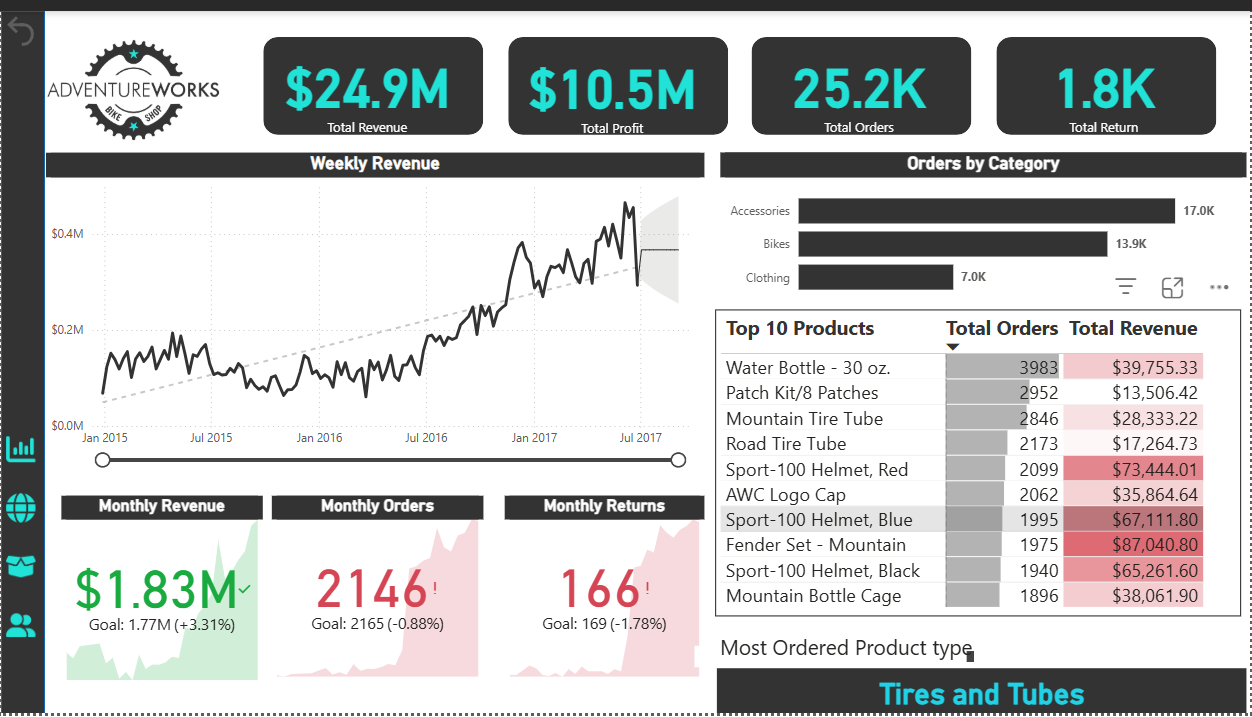

What the dashboard file says about the page in this screenshot:
{"tool":"powerbi","page":{"name":"Executive Summary","canvas":[1280,720],"ordinal":0},"visuals":[{"type":"image","title":"AW Logo","box":[22.9,0,225.6,162.1],"z":0},{"type":"shape","box":[267.9,26.4,225.6,100.5],"z":0,"group":"g1"},{"type":"image","box":[0,600.4,40.2,60.2],"z":0,"group":"g2"},{"type":"shape","title":"Left Nav Background","box":[0,0,45,720.9],"z":1000},{"type":"shape","box":[1018.7,26.4,225.6,100.5],"z":1000,"group":"g1"},{"type":"image","box":[0,540.2,40.2,60.2],"z":1000,"group":"g2"},{"type":"group","id":"g1","title":"KPI Background","box":[267.9,26.4,976.4,100.5],"z":2000},{"type":"shape","box":[768.4,26.4,225.6,100.5],"z":2000,"group":"g1"},{"type":"image","box":[0,419.7,40.2,60.2],"z":2000,"group":"g2"},{"type":"card","fields":{"Values":["AW_Sales.Total Revenue"]},"box":[232.6,0,283.8,162.1],"z":3000},{"type":"shape","box":[518.2,26.4,225.6,100.5],"z":3000,"group":"g1"},{"type":"image","box":[0,479.9,40.2,60.2],"z":3000,"group":"g2"},{"type":"card","fields":{"Values":["AW_Sales.Total Profit"]},"box":[484.7,1.8,283.8,160.4],"z":4000},{"type":"card","fields":{"Values":["AW_Sales.Total Orders"]},"box":[736.7,0,283.8,162.1],"z":5000},{"type":"card","fields":{"Values":["AW_Returns.Total Return"]},"box":[988.8,0,283.8,162.1],"z":6000},{"type":"lineChart","title":"Weekly Revenue","fields":{"Category":["AW_Calendar_Lookup.Start of Week"],"Y":["AW_Sales.Total Revenue"]},"box":[45.8,144.5,675,326.1],"z":7000},{"type":"kpi","title":"Monthly Revenue ","fields":{"Goal":["AW_Sales.Prev Month Revenue"],"Indicator":["AW_Sales.Total Revenue"],"TrendLine":["AW_Calendar_Lookup.Start of Month"]},"box":[61.7,497,206.2,193.9],"z":8000},{"type":"kpi","title":"Monthly Orders","fields":{"Goal":["AW_Sales.Prev Month Orders"],"Indicator":["AW_Sales.Total Orders"],"TrendLine":["AW_Calendar_Lookup.Start of Month"]},"box":[276.7,497,216.8,190.3],"z":9000},{"type":"kpi","title":"Monthly Returns","fields":{"Goal":["AW_Sales.Prev Months Returns"],"Indicator":["AW_Returns.Total Return"],"TrendLine":["AW_Calendar_Lookup.Start of Month"]},"box":[516.4,497,204.4,190.3],"z":10000},{"type":"clusteredBarChart","title":"Orders by  Category","fields":{"Category":["AW_Product_Categories_Lookup.CategoryName"],"Y":["AW_Sales.Total Orders"]},"box":[736.7,144.5,539.3,160.4],"z":11000},{"type":"tableEx","fields":{"Values":["AW_Products_Lookup.ProductName","AW_Sales.Total Orders","AW_Sales.Total Revenue"]},"box":[731,305.2,540.2,315.3],"z":12000},{"type":"card","fields":{"Values":["Min(AW_Product_Subcategories_Lookup.SubcategoryName)"]},"box":[733.2,673.3,542.8,47.6],"z":13000},{"type":"textbox","box":[710.9,650.7,291.2,22.1],"z":14000},{"type":"textbox","box":[731.4,631,544.6,42.3],"z":15000},{"type":"actionButton","box":[0,0,45.8,40.5],"z":16000},{"type":"group","id":"g2","title":"Navigation Buttons","box":[0,419.7,40.2,241],"z":17000}]}

Visuals, with their boxes on the page's 1280x720 design canvas (x1, y1, x2, y2). These are canvas units, not pixel positions in the 1252x717 screenshot, which may show the page scaled, cropped or inside an application window:
"AW Logo" image: bbox=(23, 0, 248, 162)
shape: bbox=(268, 26, 494, 127)
image: bbox=(0, 600, 40, 661)
"Left Nav Background" shape: bbox=(0, 0, 45, 721)
shape: bbox=(1019, 26, 1244, 127)
image: bbox=(0, 540, 40, 600)
"KPI Background" group: bbox=(268, 26, 1244, 127)
shape: bbox=(768, 26, 994, 127)
image: bbox=(0, 420, 40, 480)
card - AW_Sales.Total Revenue: bbox=(233, 0, 516, 162)
shape: bbox=(518, 26, 744, 127)
image: bbox=(0, 480, 40, 540)
card - AW_Sales.Total Profit: bbox=(485, 2, 768, 162)
card - AW_Sales.Total Orders: bbox=(737, 0, 1020, 162)
card - AW_Returns.Total Return: bbox=(989, 0, 1273, 162)
"Weekly Revenue" lineChart: bbox=(46, 144, 721, 471)
"Monthly Revenue " kpi: bbox=(62, 497, 268, 691)
"Monthly Orders" kpi: bbox=(277, 497, 494, 687)
"Monthly Returns" kpi: bbox=(516, 497, 721, 687)
"Orders by  Category" clusteredBarChart: bbox=(737, 144, 1276, 305)
tableEx - AW_Products_Lookup.ProductName x AW_Sales.Total Orders: bbox=(731, 305, 1271, 620)
card - Min(AW_Product_Subcategories_Lookup.SubcategoryName): bbox=(733, 673, 1276, 721)
textbox: bbox=(711, 651, 1002, 673)
textbox: bbox=(731, 631, 1276, 673)
actionButton: bbox=(0, 0, 46, 40)
"Navigation Buttons" group: bbox=(0, 420, 40, 661)
